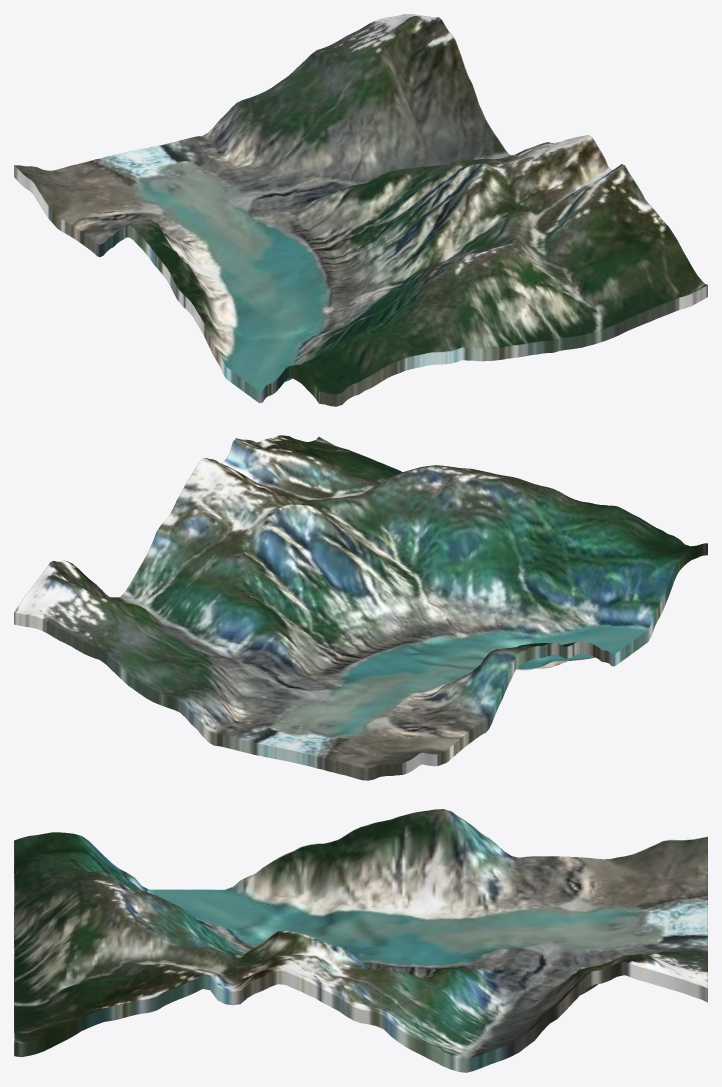
3 views of the same model, one above another, from view 1: azimuth 30°, elevation 25°; view 2: azimuth 150°, elevation 25°; view 3: azimuth 270°, elevation 25° (orthographic). The views are drawn at different scales.
Parts seen in each view (by area): view 1: tile; view 2: tile; view 3: tile.
Boxes of the visible parts, left/top/right/bottom form: tile: left=14, top=14, right=707, bottom=406; tile: left=14, top=435, right=707, bottom=780; tile: left=14, top=809, right=707, bottom=1072.
Bounding box in the file's own units: 4050 × 1376 × 5505.
1 material, 1 textured.
